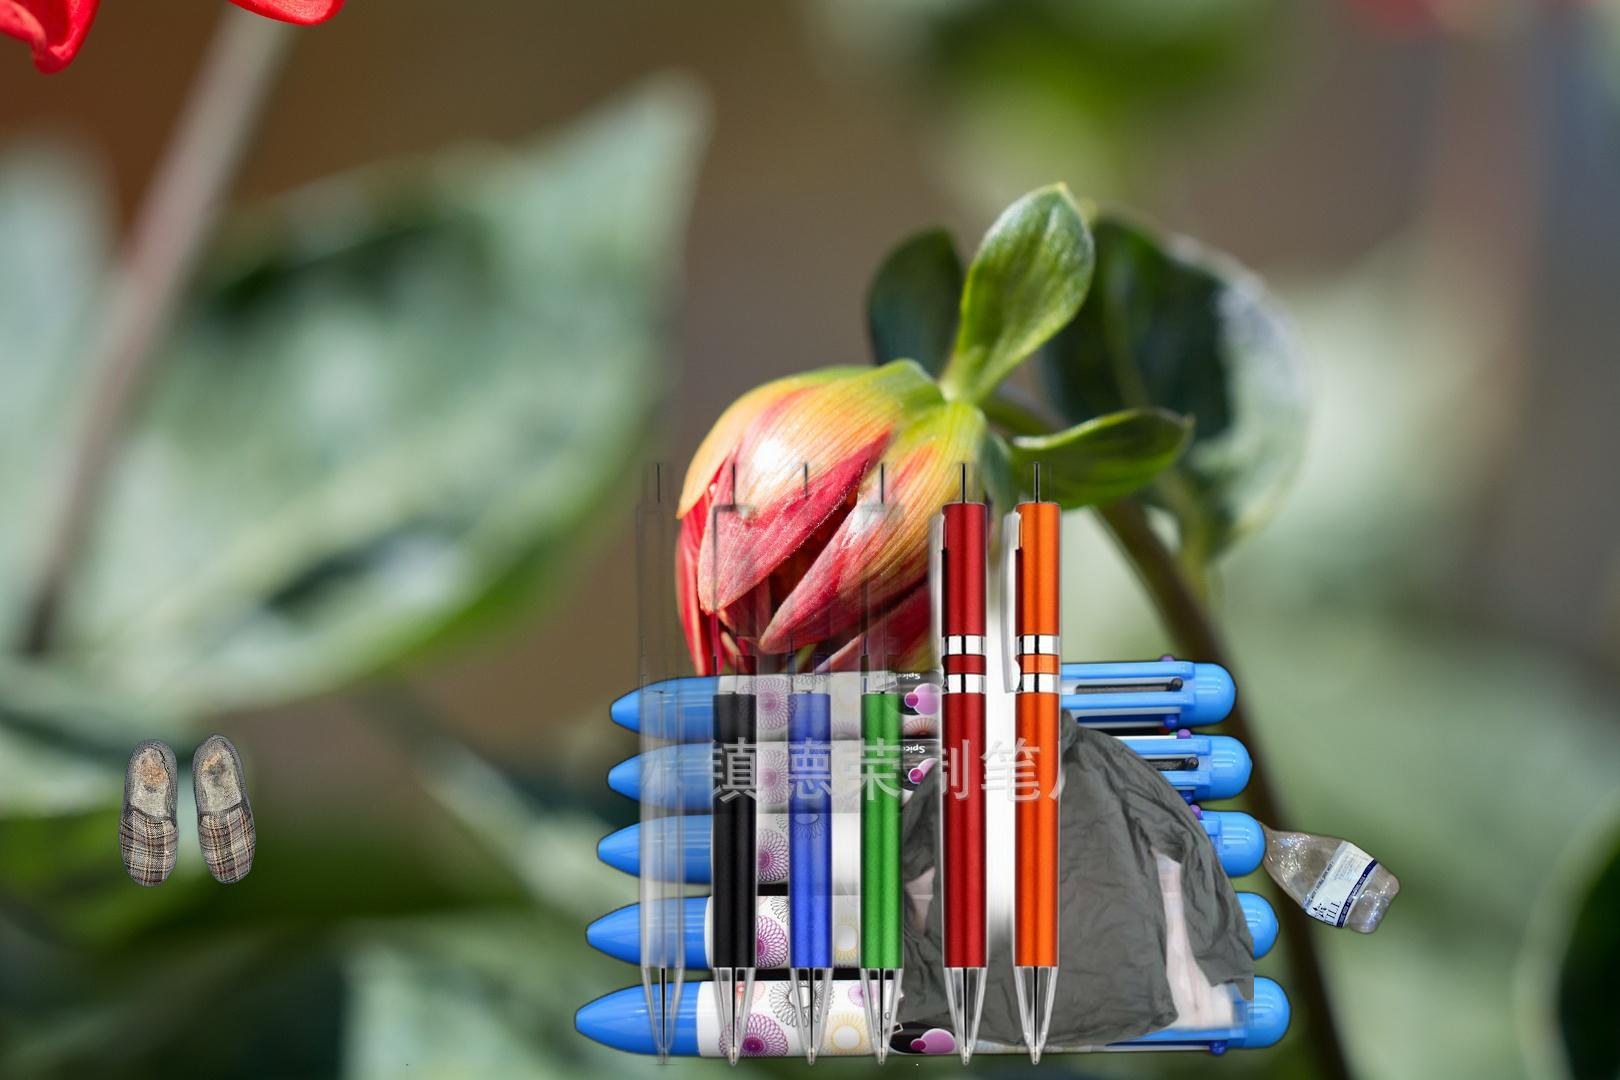clothes: (876, 704, 1254, 1051)
penholder: (506, 429, 1073, 1080), (567, 648, 1299, 1066)
plastic-bottles: (1229, 809, 1403, 938)
shoes: (116, 732, 259, 890)
trashbox-cardboard: (406, 1064, 918, 1080)
